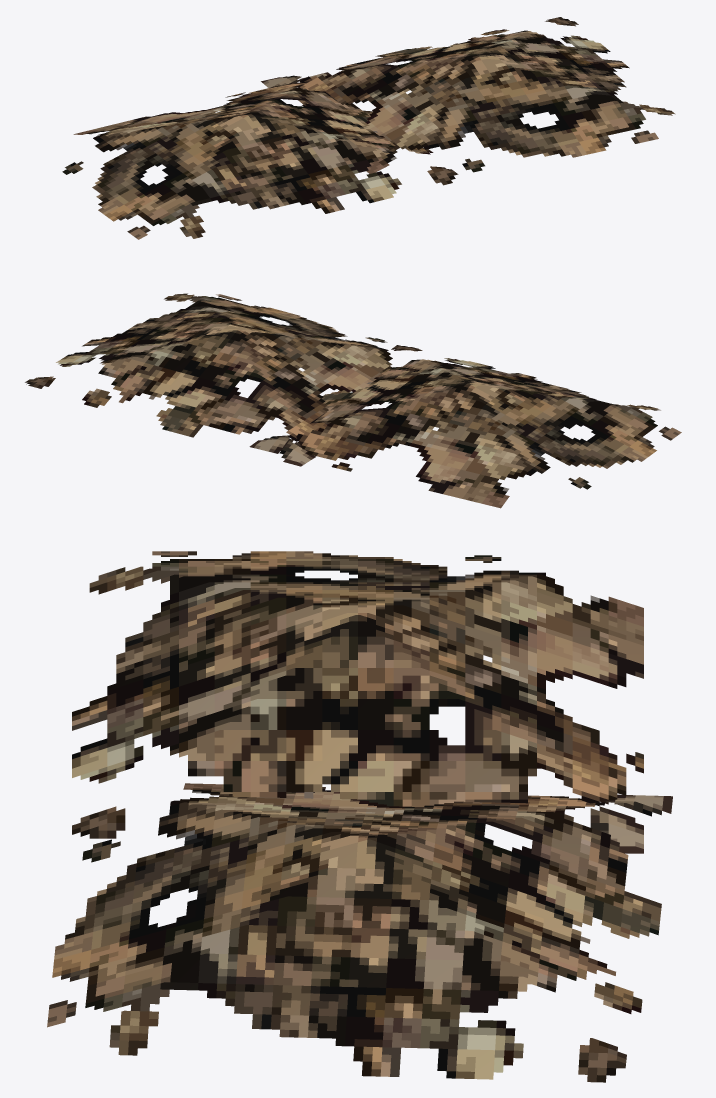
The model's file is Environment - Prop - Stone Wall 01 - PMWallBrk2_R.glb.
3 views of the same model, one above another, from view 1: azimuth 30°, elevation 25°; view 2: azimuth 150°, elevation 25°; view 3: azimuth 270°, elevation 25° (orthographic). The views are drawn at different scales.
Visible parts, largest first — view 1: PMWALLBRK2_R; view 2: PMWALLBRK2_R; view 3: PMWALLBRK2_R.
Boxes of the visible parts, x1,y1,x2,y2 form: PMWALLBRK2_R: (62,17,675,239); PMWALLBRK2_R: (25,293,681,508); PMWALLBRK2_R: (47,551,672,1082).
Bounding box in the file's own units: 33.17 × 2.71 × 16.61.
1 material, 1 textured.
